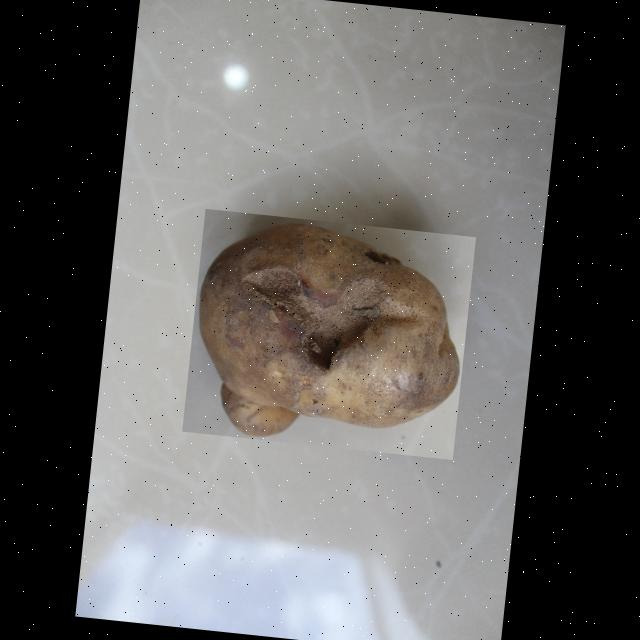Diseased-fungal potato: (182, 207, 476, 458)
